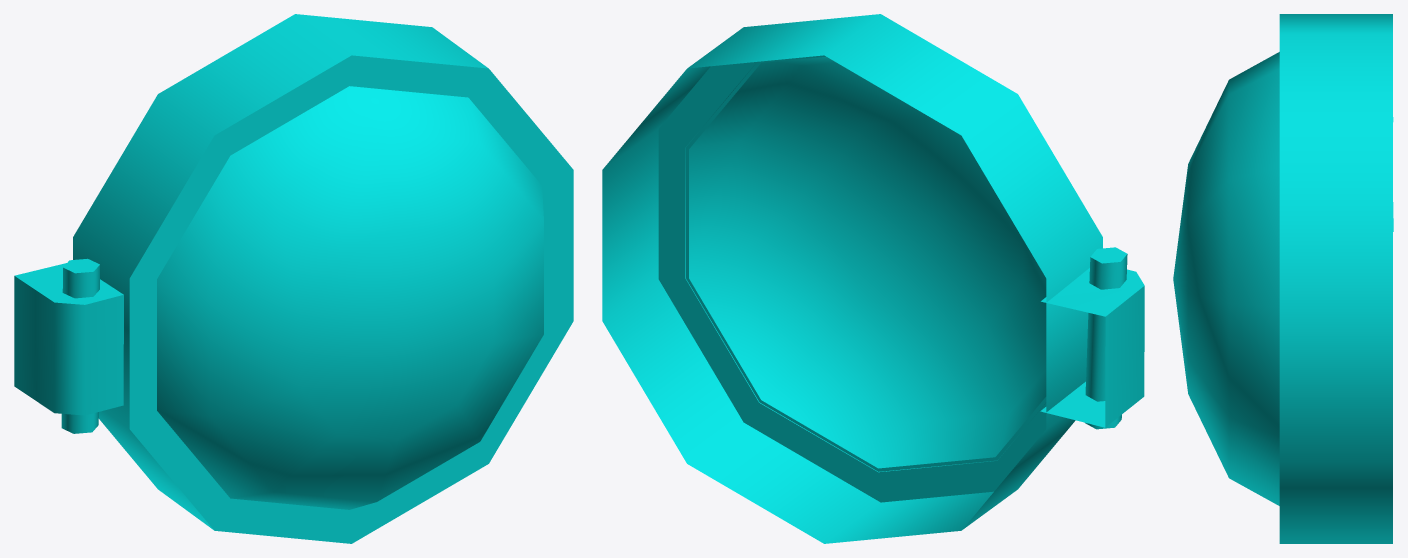
The model's file is build_prop_Luke_02.fbx.
The picture shows the model from 3 angles, left to right: view 1: azimuth 30°, elevation 25°; view 2: azimuth 150°, elevation 25°; view 3: azimuth 270°, elevation 25°; orthographic projection.
Visible parts, largest first — view 1: build_prop_Luke_02; view 2: build_prop_Luke_02; view 3: build_prop_Luke_02.
Part boxes in pixels (x1,y1,x2,y2): build_prop_Luke_02: (14,14,573,543); build_prop_Luke_02: (602,14,1144,543); build_prop_Luke_02: (1173,14,1393,543).
Size of the model in its own units: 61.68 by 57.24 by 23.38.
